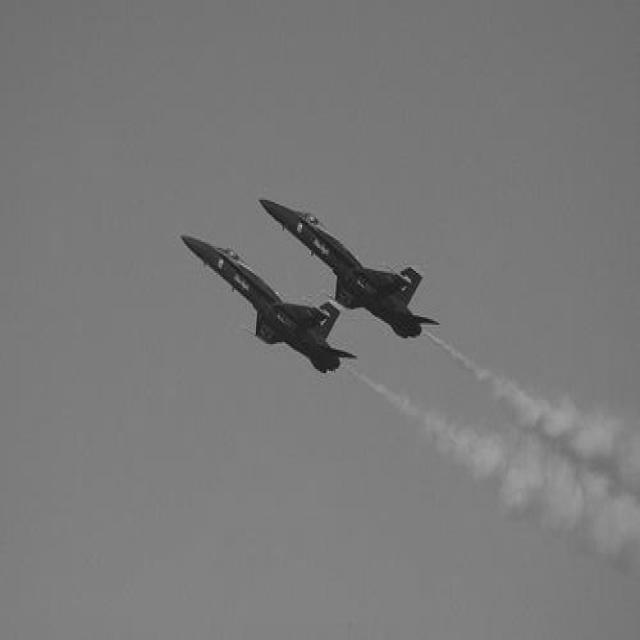aeroplane: (258, 196, 441, 338), (180, 230, 358, 372)
